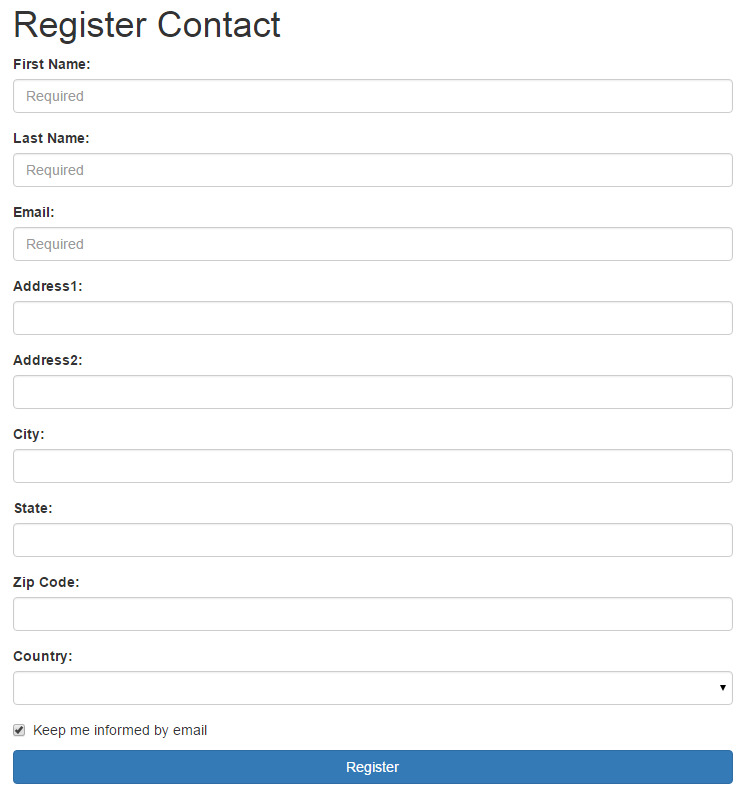_form_: (3, 68, 740, 421), (5, 438, 742, 791)
button: (12, 748, 734, 785)
checkbox: (9, 721, 27, 738)
checkbox_with_label: (7, 718, 211, 741)
field: (8, 224, 734, 264), (11, 445, 735, 485), (8, 150, 734, 189), (10, 372, 735, 411), (10, 76, 734, 115), (10, 298, 733, 337), (10, 595, 735, 632), (10, 521, 734, 558), (10, 669, 735, 705)
field_with_label: (5, 55, 737, 118), (6, 426, 738, 489), (5, 204, 736, 267), (8, 278, 735, 341), (6, 353, 738, 415), (7, 574, 738, 635), (5, 132, 737, 192), (6, 502, 737, 561), (7, 651, 738, 708)
